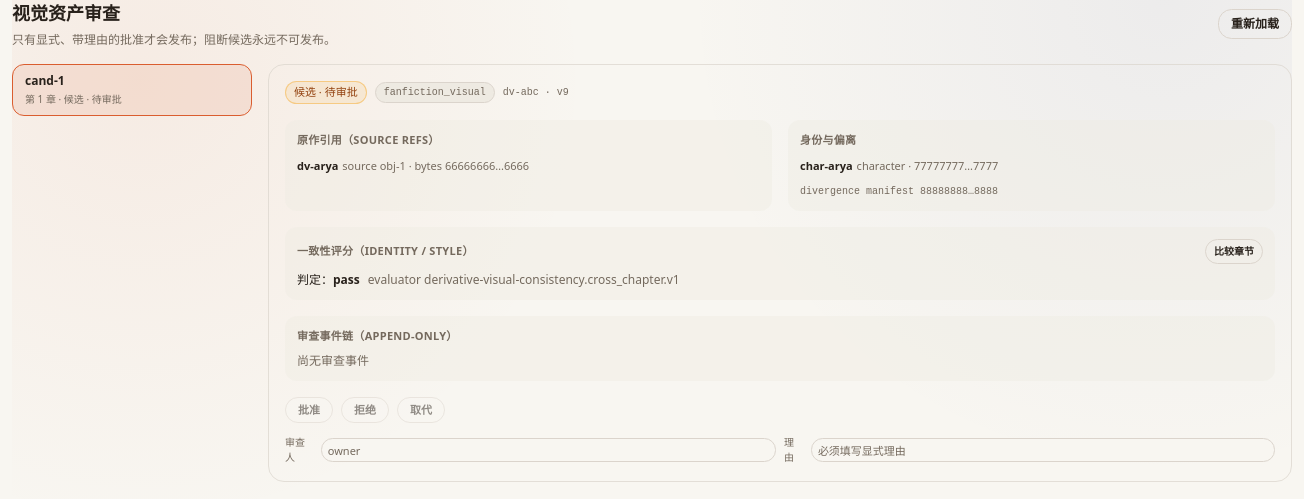
Scenario: VisualReviewPanel › requires an explicit reason before approve/reject can be submitted
Expected: the button with test id "derivative-review-action-approve" is disabled, [285,396,333,423]
Type "与分支场景一致" into the field with test id "derivative-review-reason".
click(1043, 450); type("与分支场景一致")  # box [811,438,1275,462]
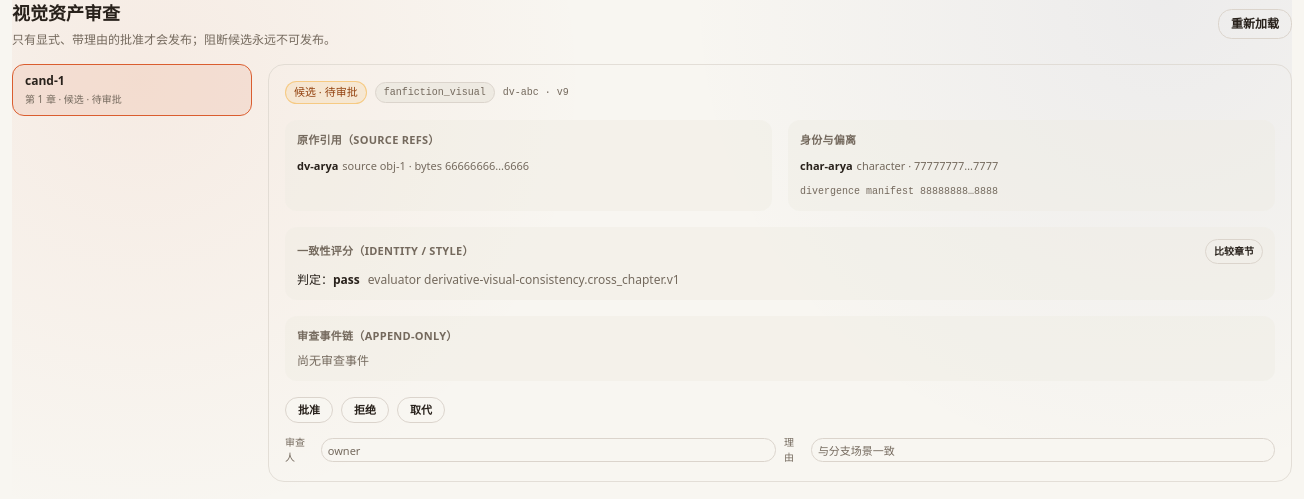
Now the button with test id "derivative-review-action-approve" is enabled, box [285,396,333,423]
